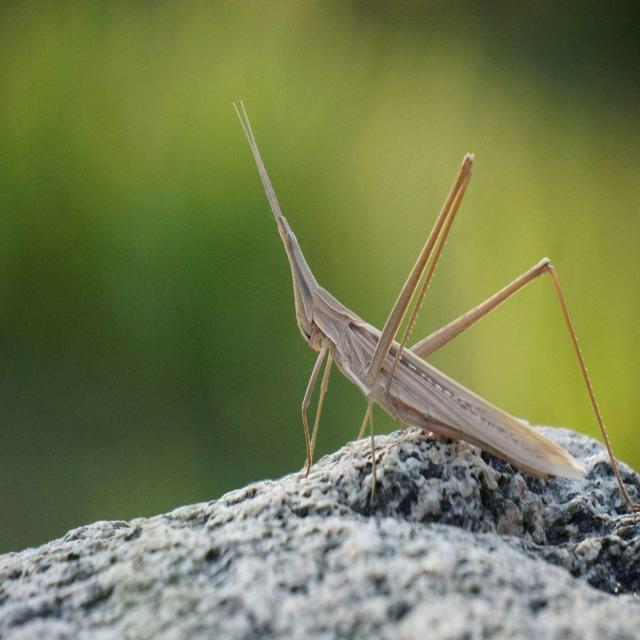ZhaMeng: (220, 86, 634, 521)
